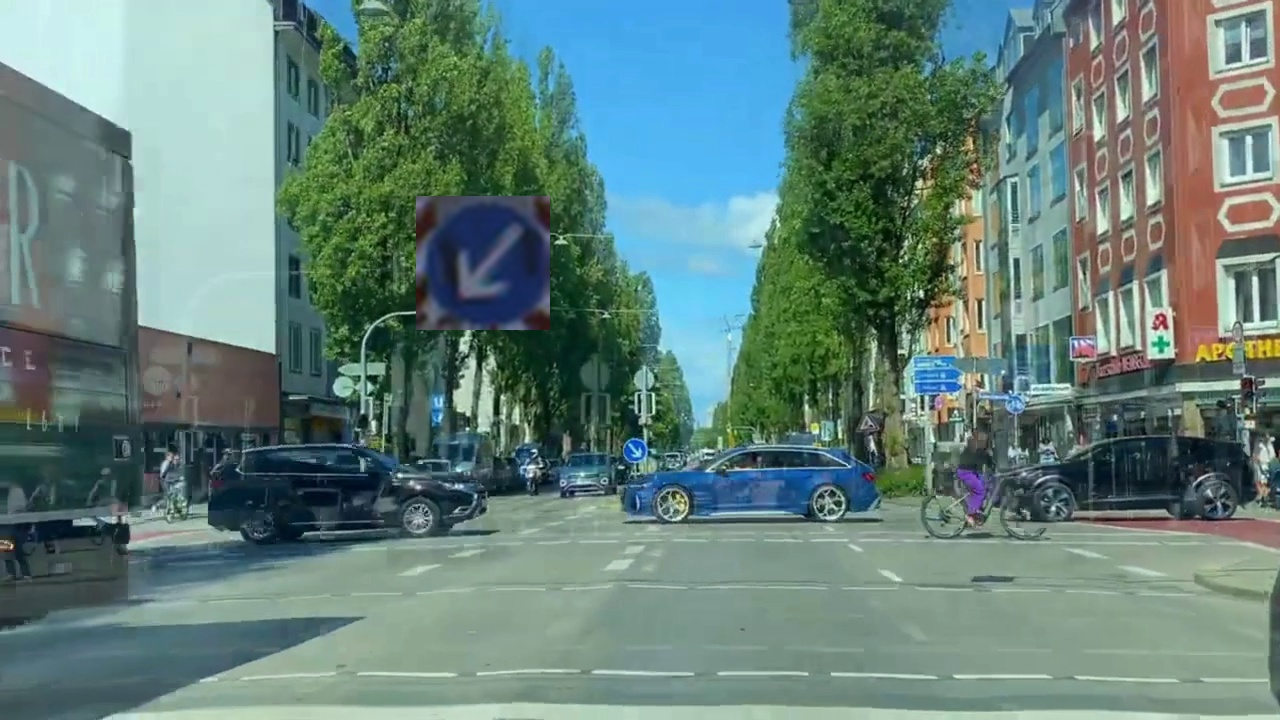Keep left: (416, 196, 550, 330)
